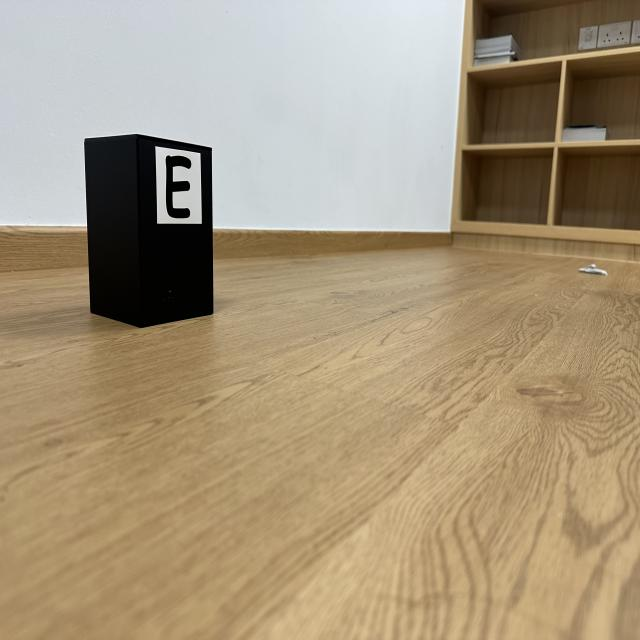E: (165, 155, 191, 218)
